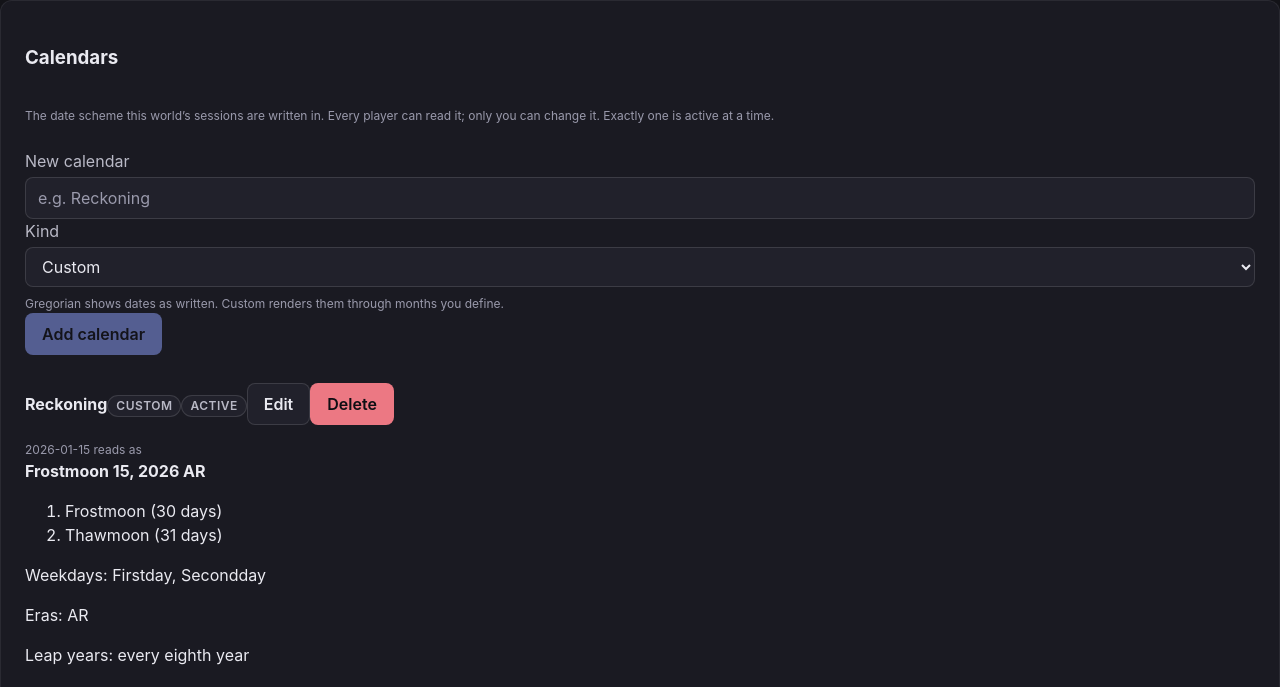
Scenario: CalendarsPanel › the structured config editor › adds and removes month rows
Click the button with aria-label "Edit Reckoning" at x=278, y=404, box [247,382,310,424]
(page scrolled)
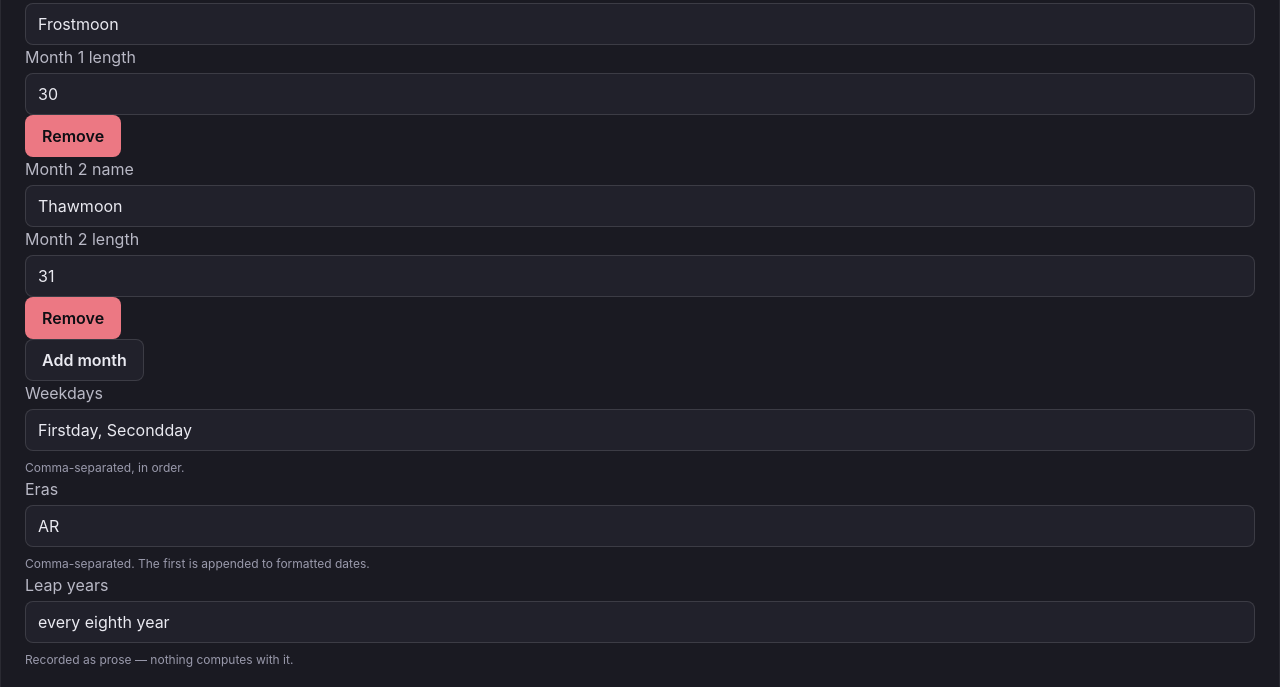
Click the button "Add month" at x=84, y=360, box [25,339,144,381]
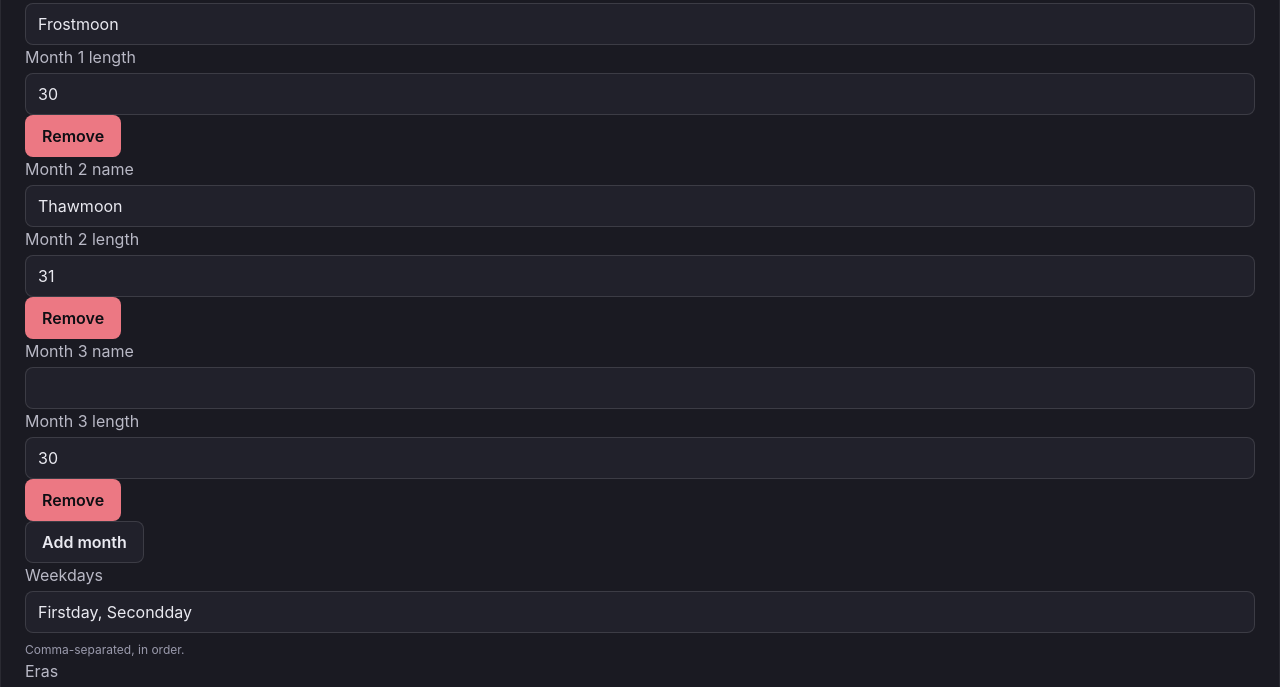
Now the field labelled "Month 3 name" is empty, box [25,367,1255,409]
Now the number field labelled "Month 3 length" holds "30", box [25,437,1255,479]
Click the button with aria-label "Remove month 1" at x=73, y=136, box [25,115,121,157]
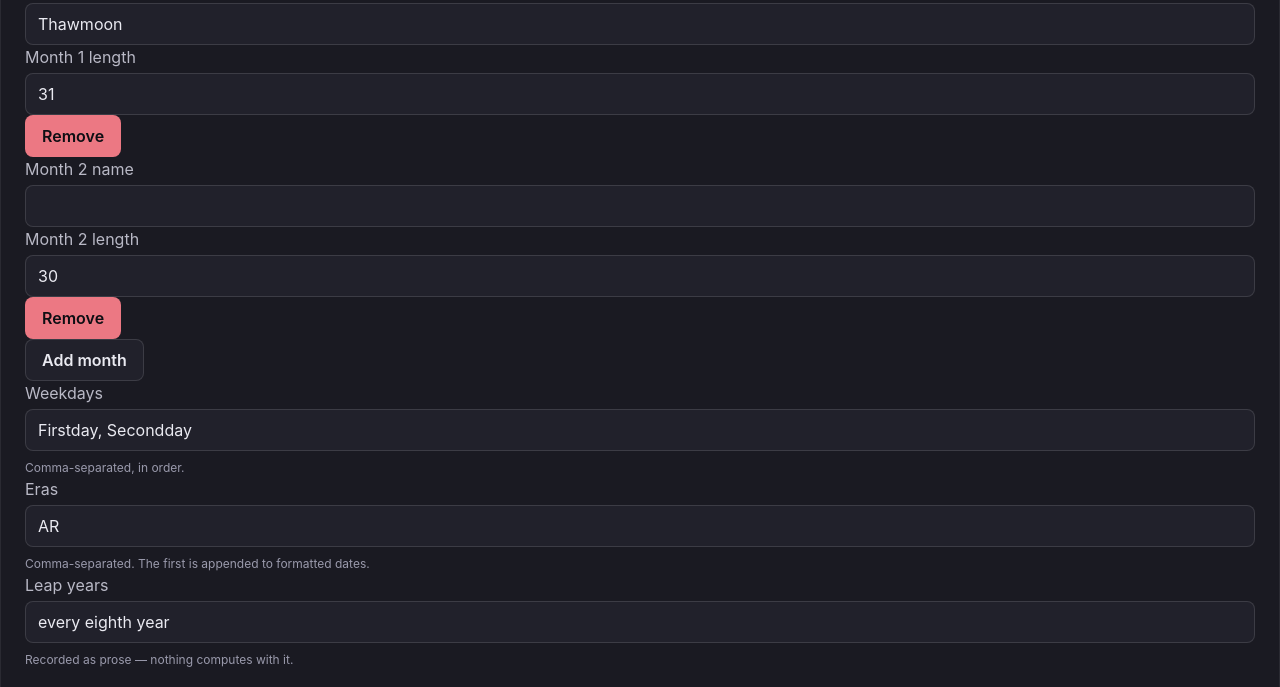
Now the field labelled "Month 1 name" holds "Thawmoon", box [25,3,1255,45]
Now the label labelled "Month 3 name" is gone
